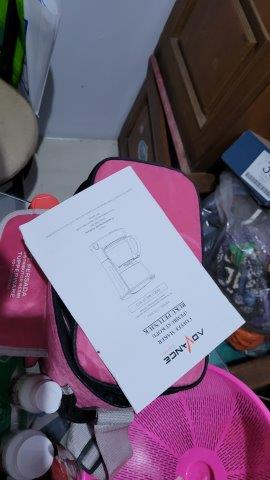kertas: (20, 166, 246, 410)
